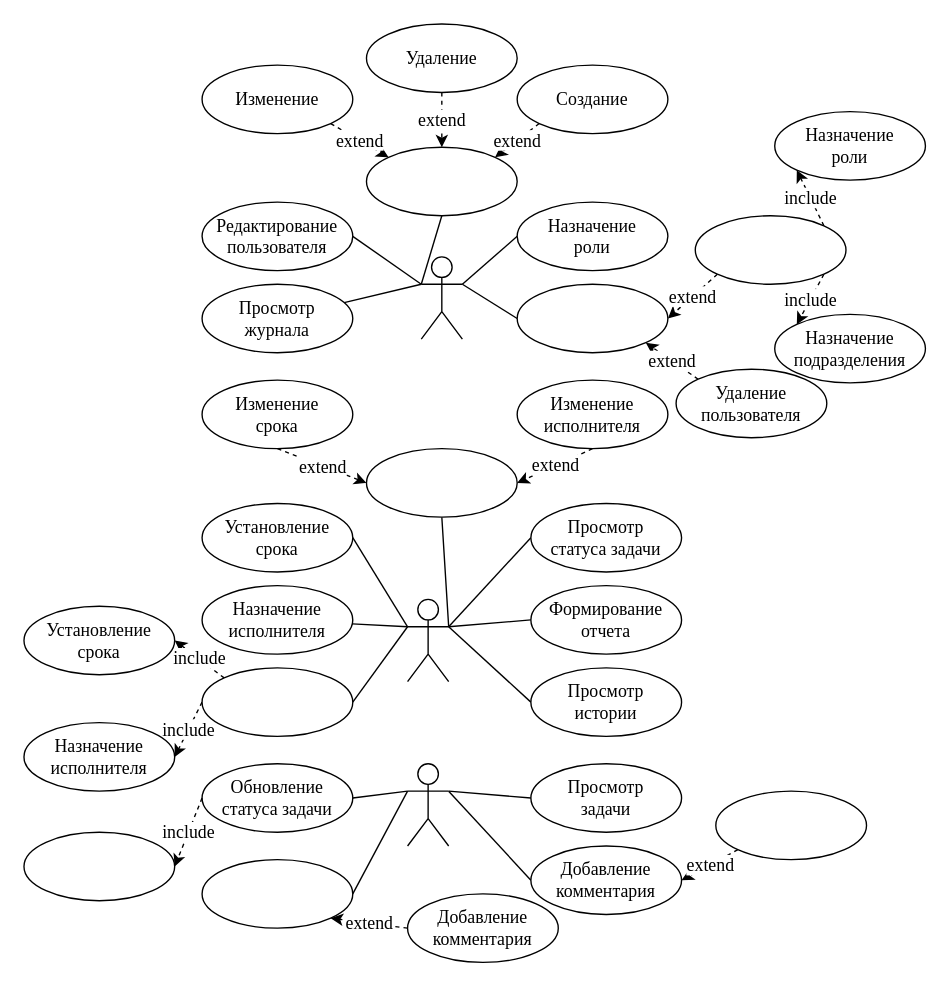
This 949x986 diagram has some shape labels left out. Here are the shapes that lost their labels. From the top down, the centre of each, then its label:
At point (441, 181): "Управление подразделением".
At point (770, 249): "Создание пользователя".
At point (441, 297): "Администратор".
At point (592, 318): "Управление пользователем".
At point (441, 482): "Изменение задачи".
At point (427, 640): "Руководитель".
At point (277, 701): "Создание задачи".
At point (427, 804): "Исполнитель".
At point (790, 825): "Обновление статуса".
At point (99, 866): "Выбор задачи".
At point (277, 893): "Прикрепление файла".
